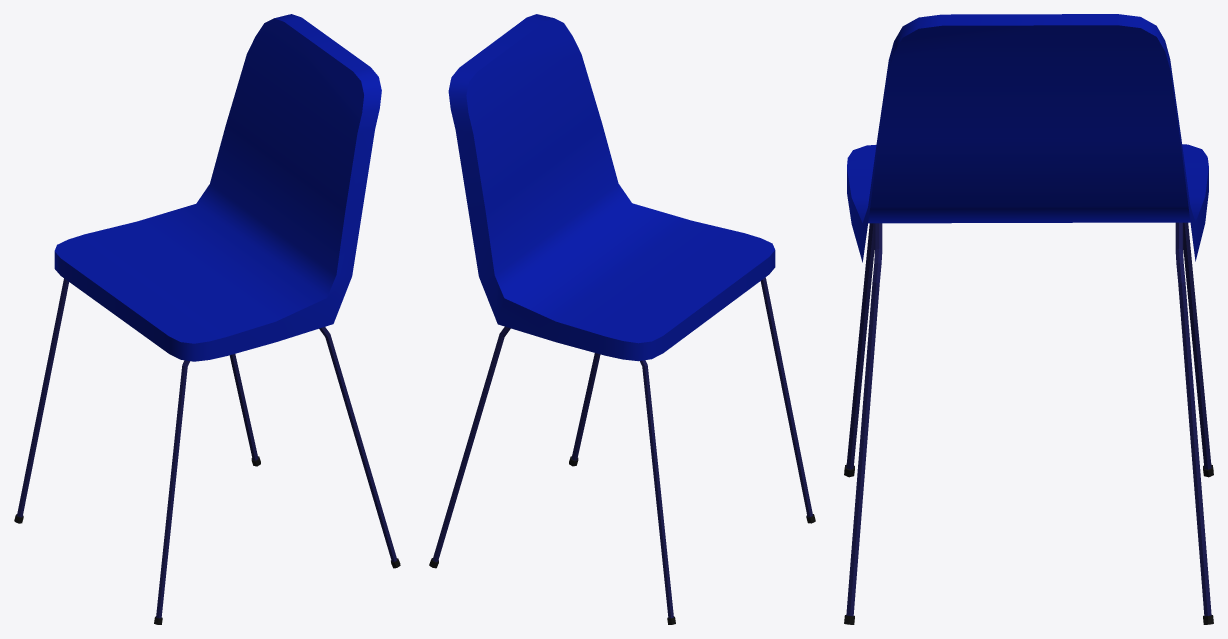
The model's file is CadeiraComPe.FBX.
The picture shows the model from 3 angles, left to right: view 1: azimuth 30°, elevation 25°; view 2: azimuth 150°, elevation 25°; view 3: azimuth 270°, elevation 25°; orthographic projection. The views are drawn at different scales.
Visible parts, largest first — view 1: CadeiraPiscina002, Pés_Cadeira_003; view 2: CadeiraPiscina002, Pés_Cadeira_003; view 3: CadeiraPiscina002, Pés_Cadeira_003.
Boxes of the visible parts, x1=… form: CadeiraPiscina002: x1=54, y1=14, x2=381, y2=361; Pés_Cadeira_003: x1=14, y1=278, x2=400, y2=624; CadeiraPiscina002: x1=448, y1=14, x2=775, y2=361; Pés_Cadeira_003: x1=429, y1=277, x2=815, y2=624; CadeiraPiscina002: x1=847, y1=14, x2=1208, y2=262; Pés_Cadeira_003: x1=844, y1=222, x2=1213, y2=624.
Size of the model in its own units: 0.501 by 0.8926 by 0.4933.
